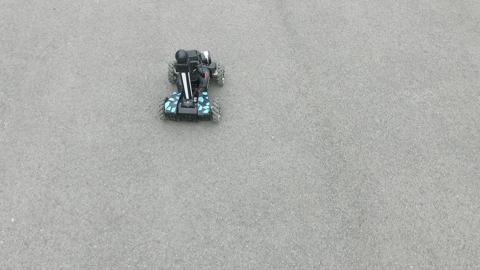chariot: (150, 43, 234, 134)
